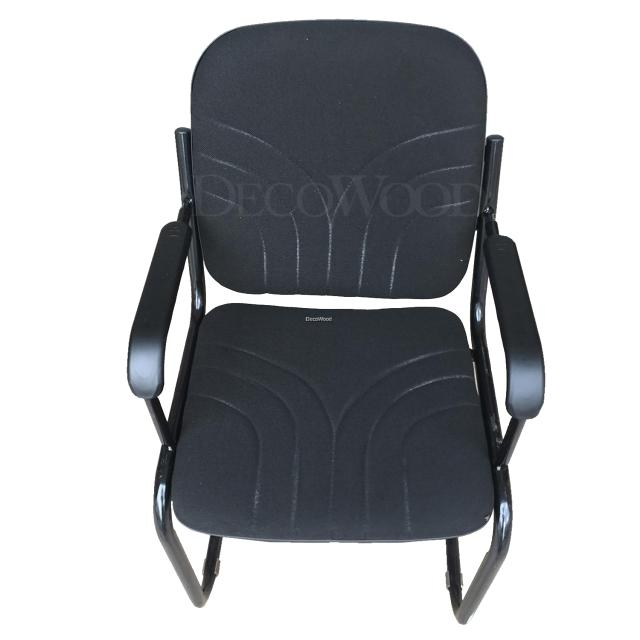Chair: (123, 17, 552, 631)
